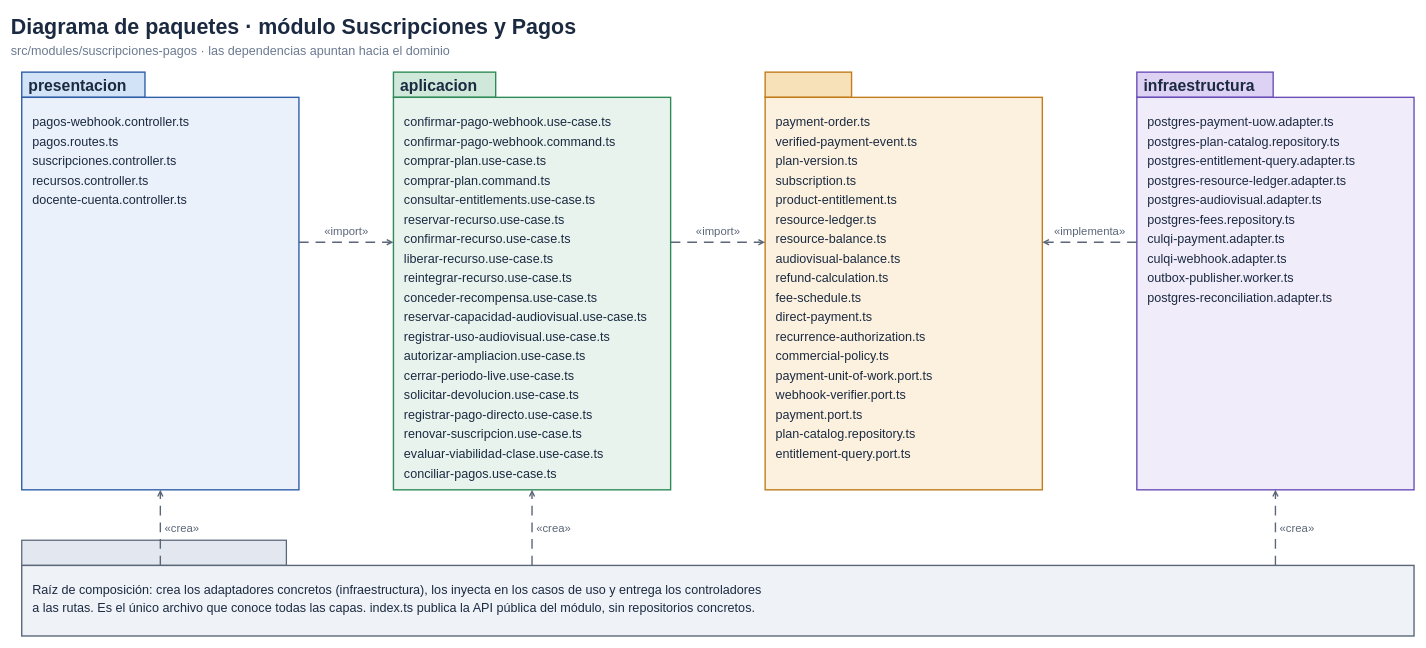
Some shapes in this 1426 by 648 pixel diagram are drawn without their labels. The shapes that lost their labels are listed below. From the top down, each one's centre as x and y in pixels, then its label:
the point at 808,84: dominio
the point at 154,552: suscripciones-pagos.module.ts
